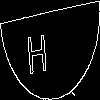H: (25, 25, 49, 75)
